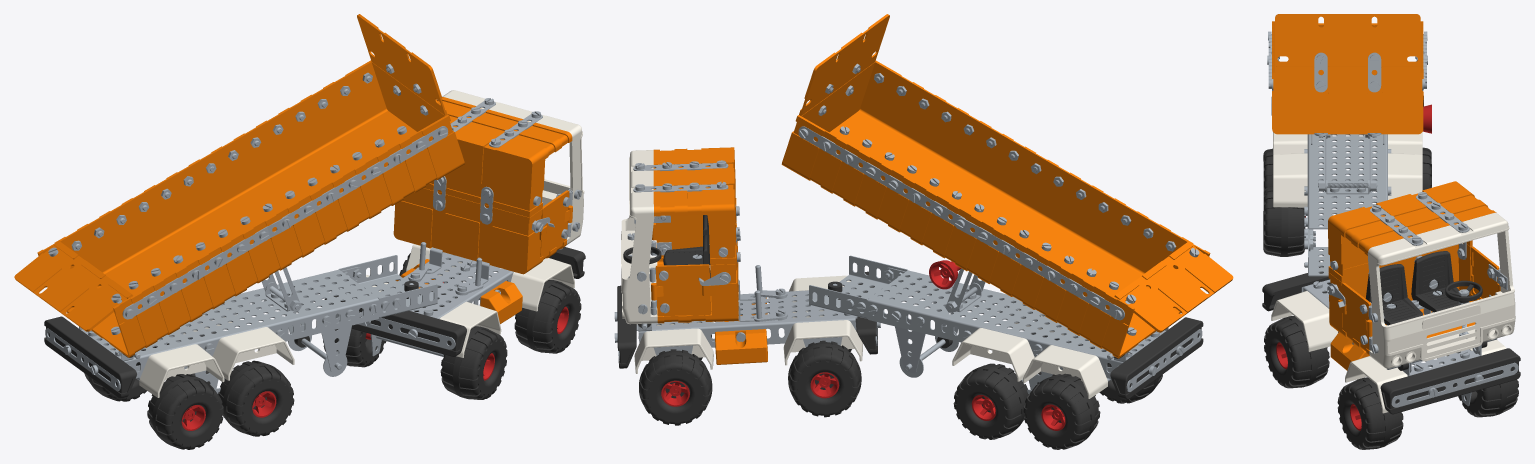
The model's file is Auflieger oben.glb.
The picture shows the model from 3 angles, left to right: view 1: azimuth 30°, elevation 25°; view 2: azimuth 150°, elevation 25°; view 3: azimuth 270°, elevation 25°; orthographic projection.
Visible parts, largest first — view 1: LKW Mittelteil (×7), LKW Rückwand (×3), Reifen 54 x 10 x 31 (×5), Winkelplatte 5 x 11 (×3), LKW Ladeklappe (×2), Kotflügel (×4), Stoßstange (×3), LKW Mittelsegment flach 40, Winkelplatte 5 x 5, Frontscheibe LKW, Lochband 15 gebogen, Lochband 15 (+4 smaller); view 2: LKW Mittelteil (×7), Reifen 54 x 10 x 31 (×5), Winkelplatte 5 x 11 (×3), LKW Rückwand (×3), Kotflügel (×5), LKW Ladeklappe (×2), Stoßstange (×3), Tür (×2), Frontscheibe LKW, LKW Mittelsegment flach 40, Winkelplatte 5 x 5, Lochband 15 gebogen (+7 smaller); view 3: LKW Rückwand (×3), Reifen 54 x 10 x 31 (×6), LKW Ladeklappe, Kotflügel (×6), Frontscheibe LKW, Winkelplatte 5 x 11 (×3), Stoßstange (×2), Kühlergrill LKW, Sitz (×4), LKW Mittelsegment flach 40 (×2), Tür (×2), Langlochband 11 (+7 smaller).
Boxes of the visible parts, x1,y1,x2,y2 form: LKW Mittelteil (×7): (37, 72, 442, 357); LKW Rückwand (×3): (351, 60, 545, 274); Reifen 54 x 10 x 31 (×5): (147, 280, 581, 449); Winkelplatte 5 x 11 (×3): (97, 254, 510, 377); LKW Ladeklappe (×2): (14, 14, 447, 331); Kotflügel (×4): (139, 258, 574, 397); Stoßstange (×3): (44, 247, 585, 398); LKW Mittelsegment flach 40: (437, 97, 572, 158); Winkelplatte 5 x 5: (339, 255, 437, 317); Frontscheibe LKW: (442, 90, 584, 211); Lochband 15 gebogen: (122, 216, 291, 319); Lochband 15: (281, 126, 448, 225); LKW Mittelteil (×7): (803, 72, 1210, 358); Reifen 54 x 10 x 31 (×5): (639, 340, 1162, 449); Winkelplatte 5 x 11 (×3): (706, 270, 1150, 379); LKW Rückwand (×3): (708, 60, 895, 321); Kotflügel (×5): (634, 275, 1107, 398); LKW Ladeklappe (×2): (799, 14, 1233, 332); Stoßstange (×3): (617, 271, 1203, 399); Tür (×2): (651, 214, 715, 316); Frontscheibe LKW: (621, 150, 654, 292); LKW Mittelsegment flach 40: (653, 148, 708, 216); Winkelplatte 5 x 5: (809, 255, 907, 318); Lochband 15 gebogen: (955, 217, 1124, 320); LKW Rückwand (×3): (1272, 69, 1472, 334); Reifen 54 x 10 x 31 (×6): (1263, 147, 1518, 449); LKW Ladeklappe: (1275, 14, 1420, 72); Kotflügel (×6): (1271, 132, 1422, 413); Frontscheibe LKW: (1367, 212, 1515, 339); Winkelplatte 5 x 11 (×3): (1303, 134, 1387, 332); Stoßstange (×2): (1262, 272, 1520, 414); Kühlergrill LKW: (1369, 304, 1515, 368); Sitz (×4): (1365, 251, 1460, 325); LKW Mittelsegment flach 40 (×2): (1341, 191, 1496, 355); Tür (×2): (1338, 246, 1500, 349); Langlochband 11: (1391, 362, 1518, 407).
Bounding box in the file's own units: 0.4745 × 0.2916 × 0.1937.
